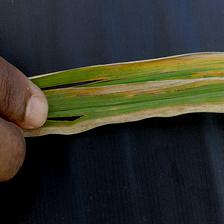2 BacterialBlight: (32, 59, 218, 129)
